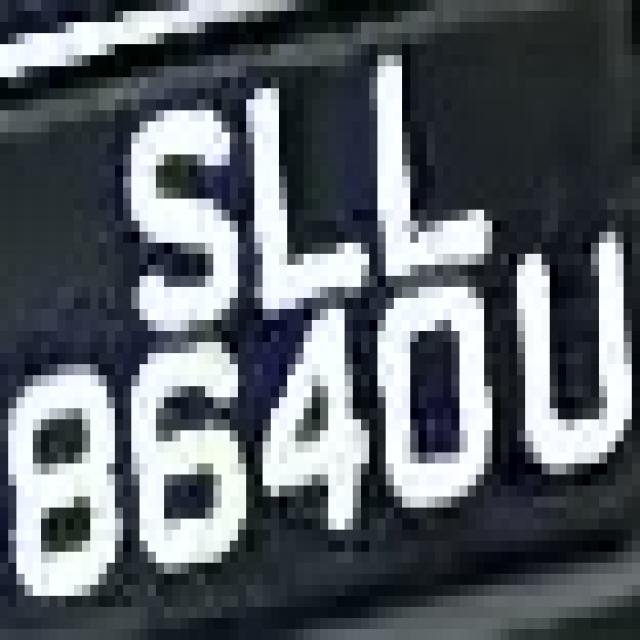0: (369, 243, 501, 552)
4: (222, 287, 369, 574)
6: (140, 287, 254, 585)
8: (0, 331, 123, 640)
L: (213, 44, 369, 309), (353, 22, 509, 265)
S: (115, 77, 246, 364)
U: (500, 220, 640, 507)
